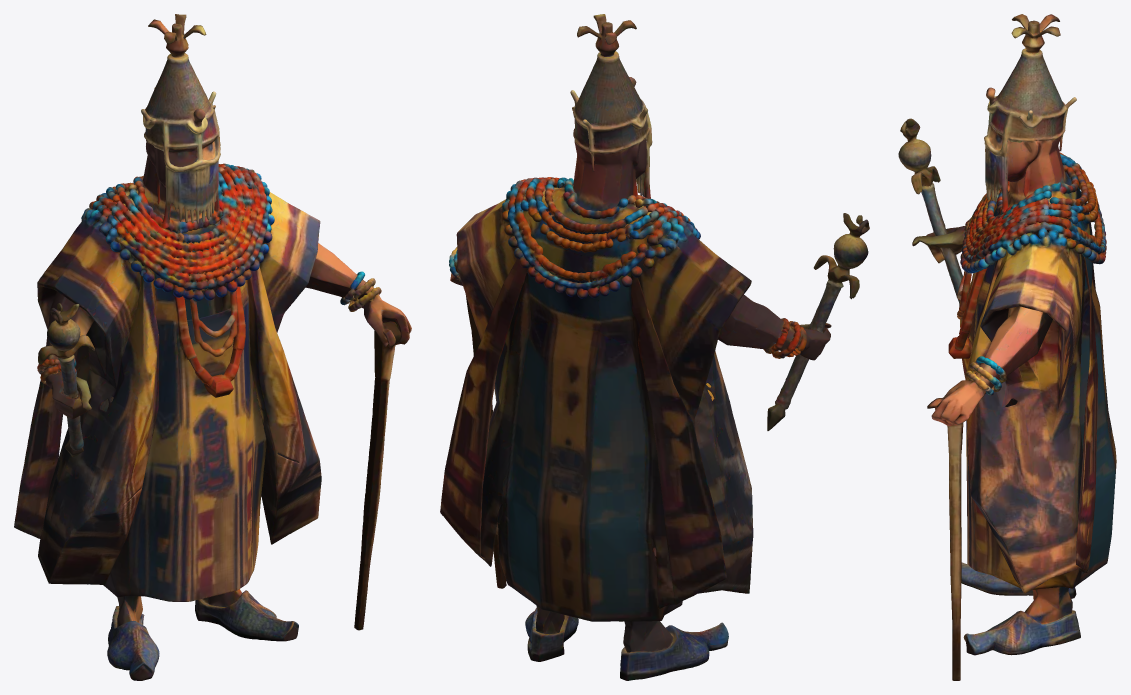
Rendered from kosoko.glb.
3 views of the same model, side by side, from view 1: azimuth 30°, elevation 25°; view 2: azimuth 150°, elevation 25°; view 3: azimuth 270°, elevation 25° (orthographic). The views are drawn at different scales.
Parts seen in each view (by area): view 1: geometry_0; view 2: geometry_0; view 3: geometry_0.
Boxes of the visible parts, x1,y1,x2,y2 form: geometry_0: [14, 14, 411, 680]; geometry_0: [440, 14, 869, 680]; geometry_0: [898, 14, 1116, 680].
Size of the model in its own units: 0.6507 by 1 by 0.3343.
Materials: 1 (1 with a texture image).
